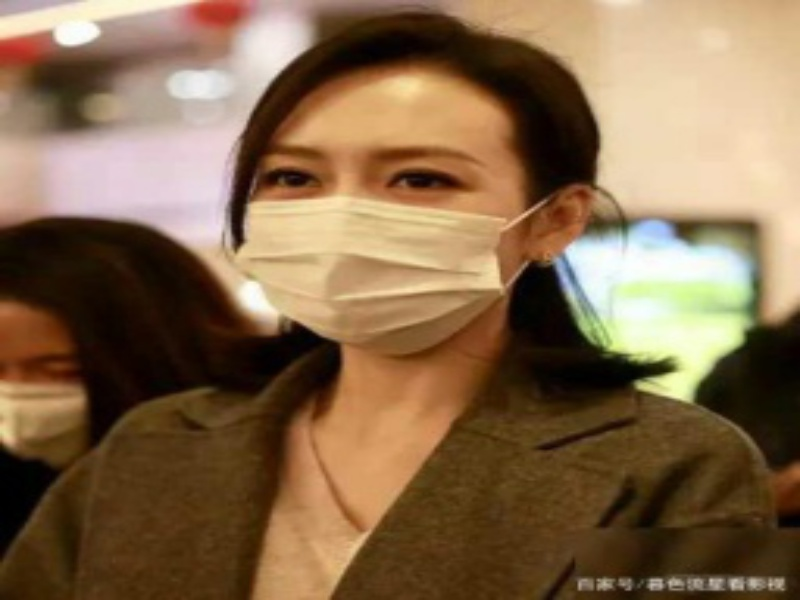ManaoArotava: (211, 19, 546, 378)
